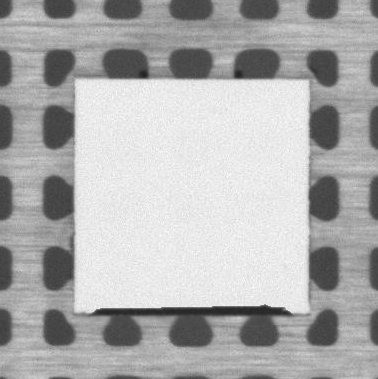DIE_BROKEN: (90, 304, 296, 317)
